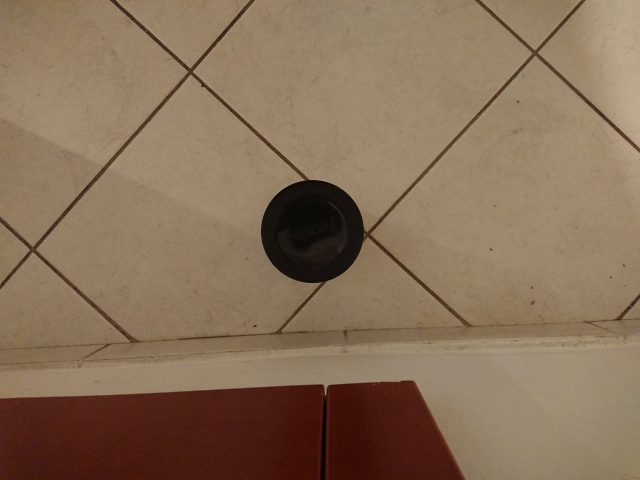Nescafe Classic 225g: (257, 177, 368, 286)
